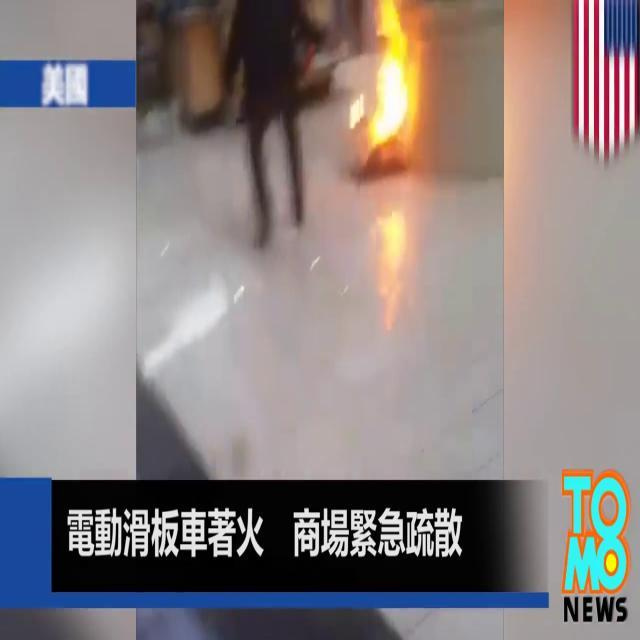Fire: (364, 2, 416, 154)
